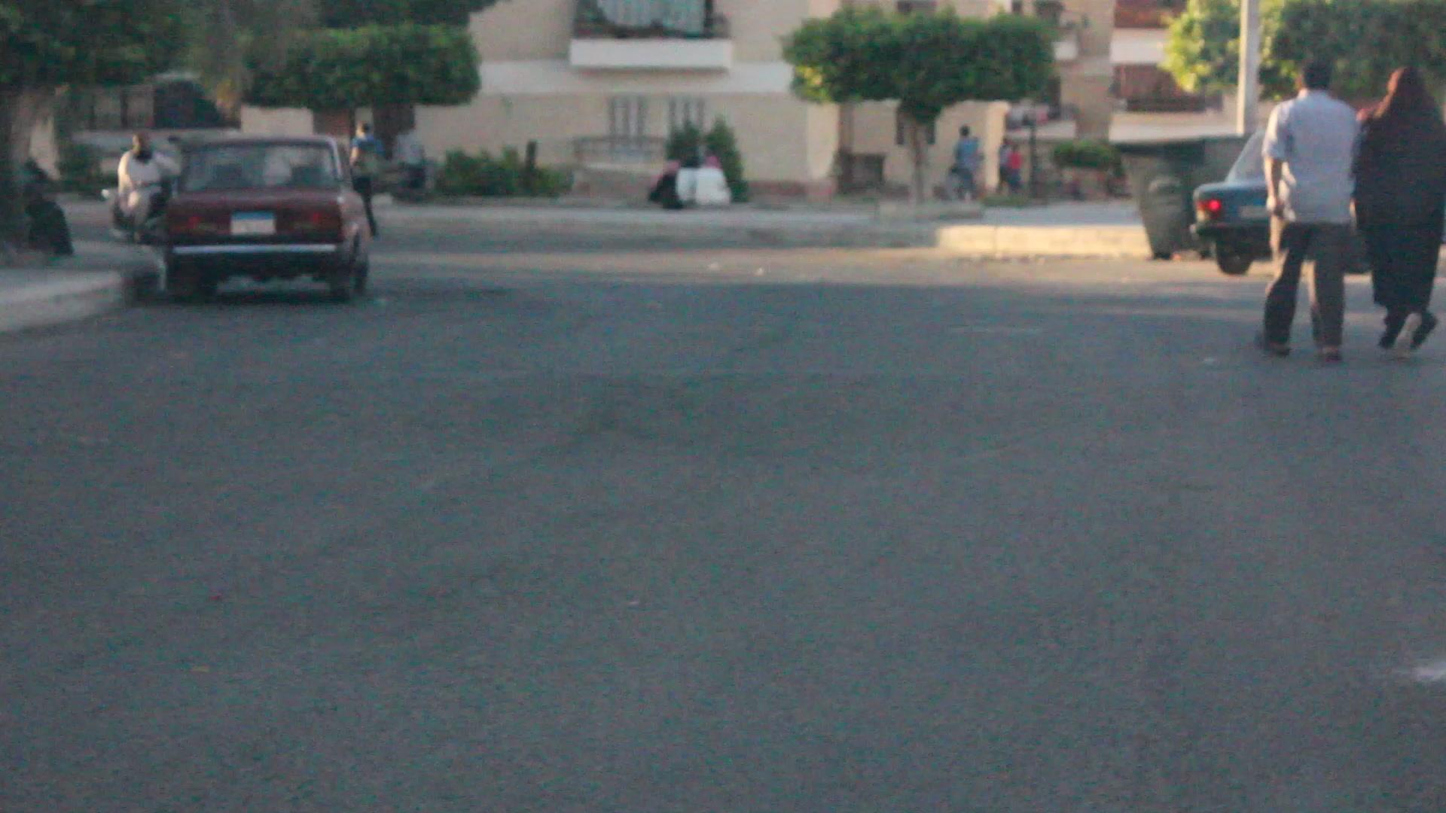Bump: (0, 351, 1445, 485)
